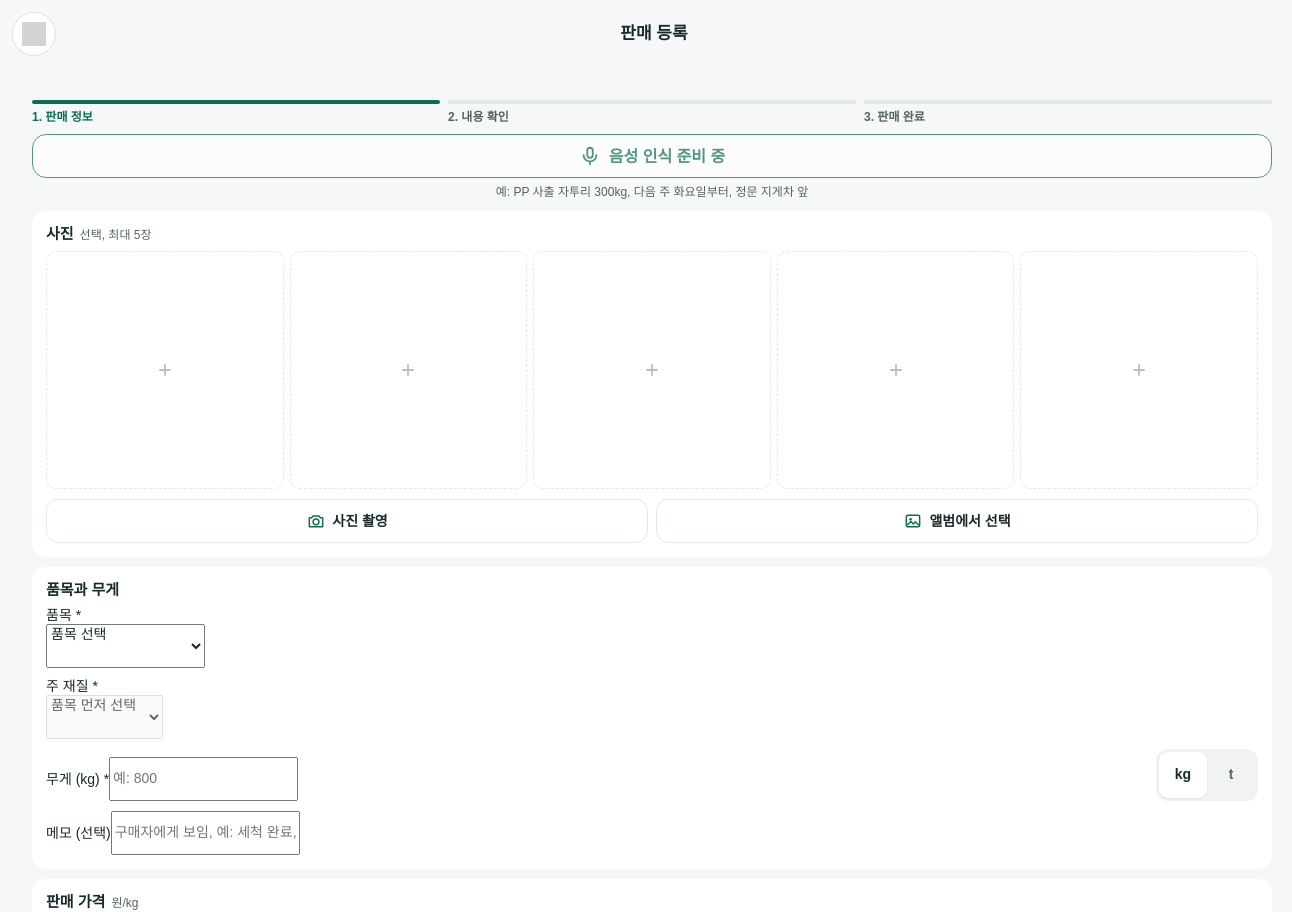
Test: 품목을 고르면 재질 추천이 재질 칸을 채우고 후보 칩을 보인다
Step 1. Select "고철" in the dropdown labelled "품목 *" → (126, 646), box [46, 624, 205, 668]
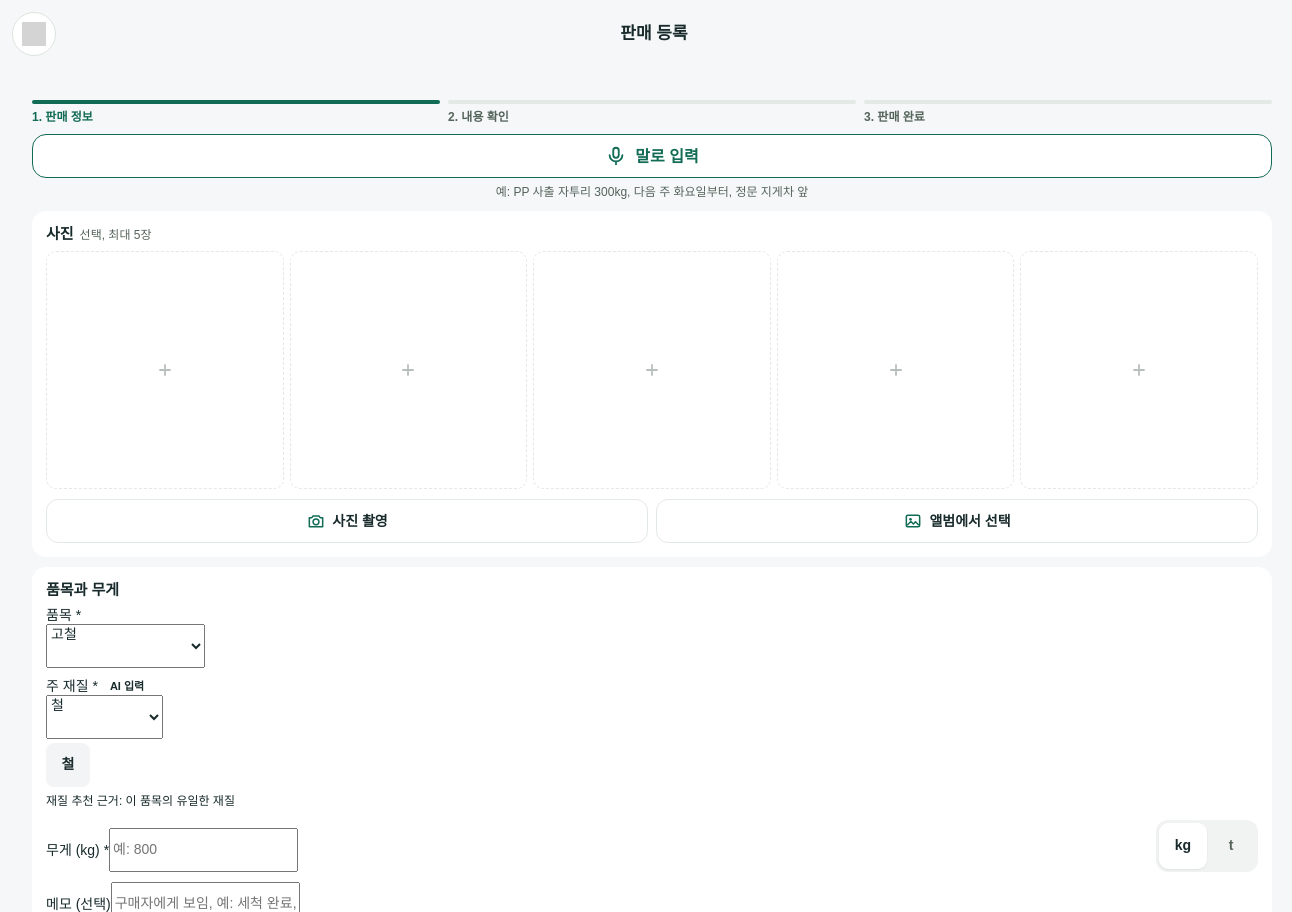
Check: the dropdown labelled "주 재질 *AI 입력" shows "철"
Check: the element named "재질 후보" is shown, box [46, 743, 90, 787]
Check: the text "재질 추천 근거: 이 품목의 유일한 재질" is shown, box [46, 794, 235, 808]
Step 2. Select "주물" in the dropdown labelled "주 재질 *AI 입력" → (104, 717), box [46, 695, 163, 739]
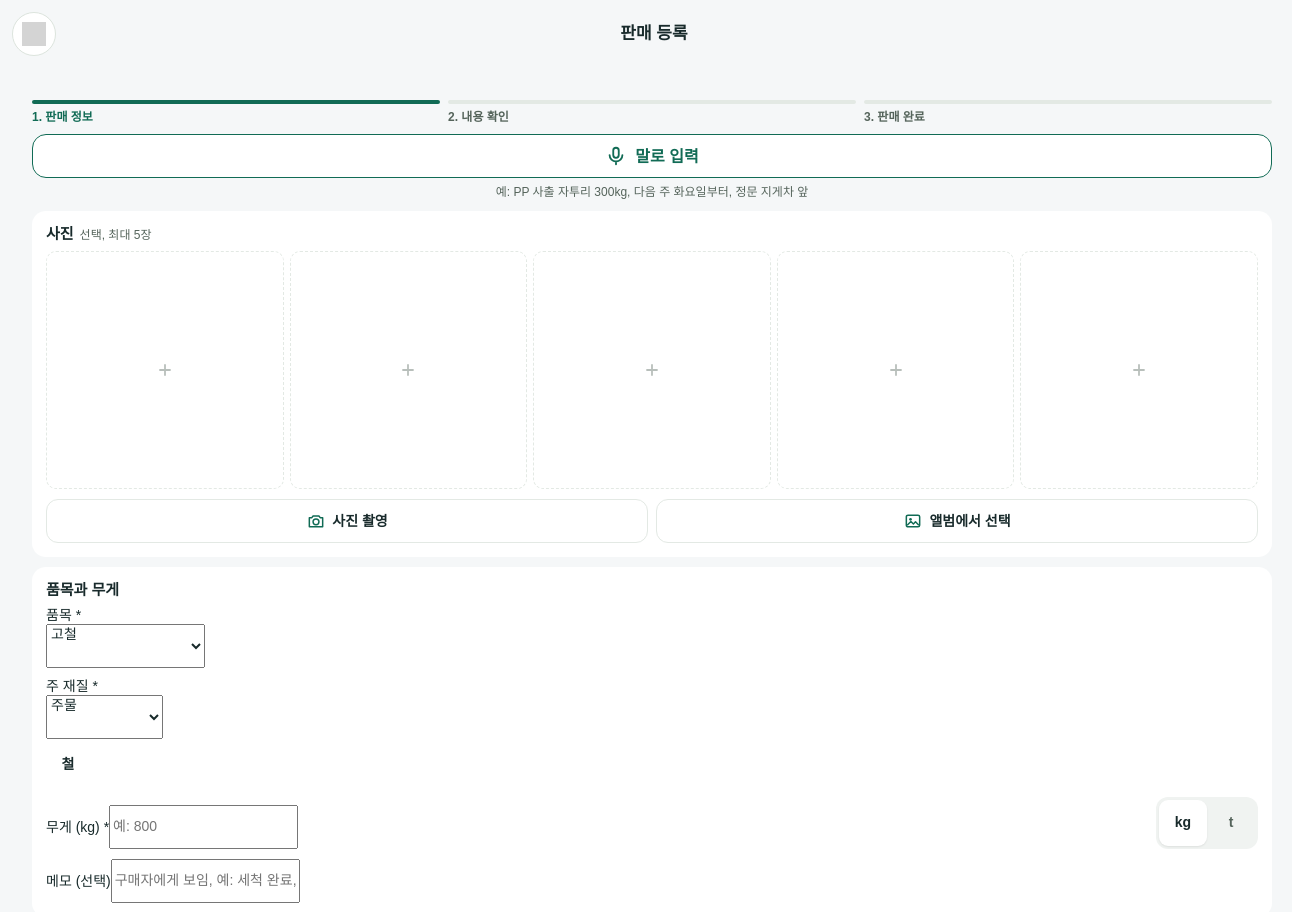
Check: the text "AI 입력" is gone
